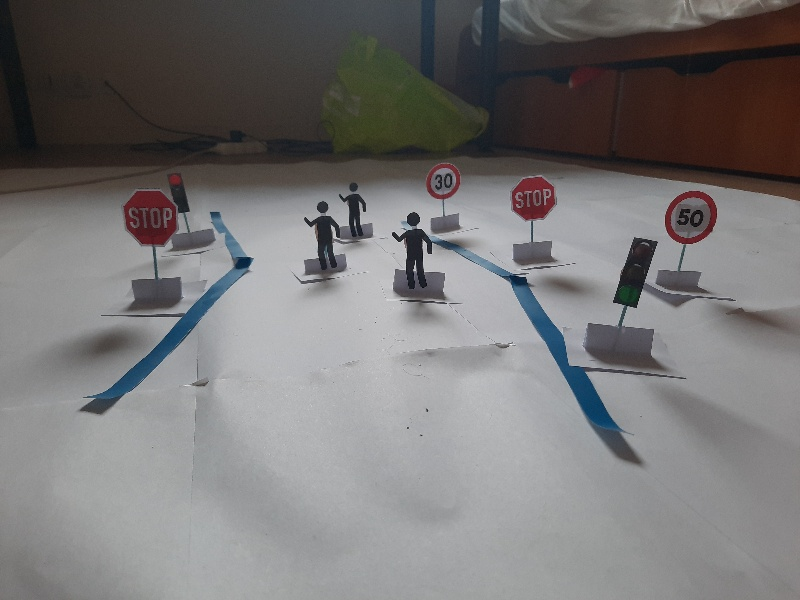Green: (615, 236, 657, 310)
Limit 30: (427, 164, 458, 197)
Limit 50: (666, 189, 718, 244)
Person: (391, 211, 430, 293), (301, 201, 340, 272), (337, 183, 366, 238)
Red: (165, 169, 194, 212)
Stop: (125, 189, 176, 247), (513, 176, 556, 219)
